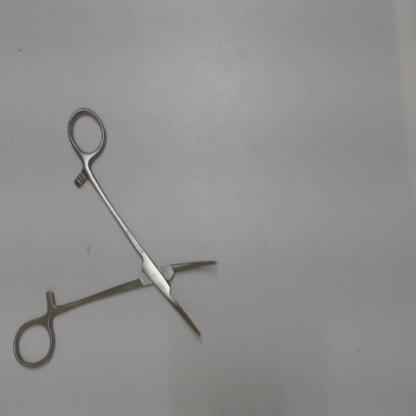Crile Artery Forceps: (9, 98, 224, 374)
